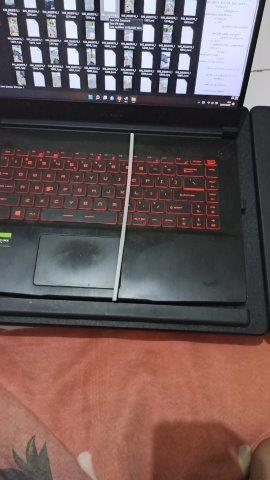sedotan: (112, 134, 134, 301)
